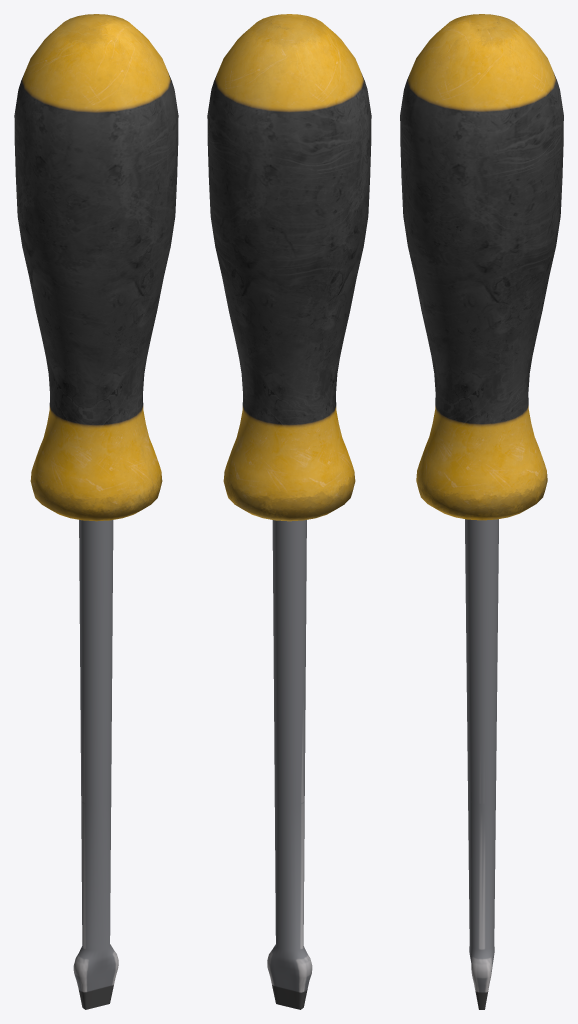
Rendered from screwdriver.glb.
3 renders of one model, left to right at view 1: azimuth 30°, elevation 25°; view 2: azimuth 150°, elevation 25°; view 3: azimuth 270°, elevation 25°, orthographic.
Parts seen in each view (by area): view 1: SM_screendriver_1_head.001_2, SM_screendriver_1.001_3; view 2: SM_screendriver_1_head.001_2, SM_screendriver_1.001_3; view 3: SM_screendriver_1_head.001_2, SM_screendriver_1.001_3.
Part boxes in pixels (box(x1,y1,x2,y2)): SM_screendriver_1_head.001_2: box(14, 14, 178, 521); SM_screendriver_1.001_3: box(73, 520, 118, 1009); SM_screendriver_1_head.001_2: box(207, 14, 371, 521); SM_screendriver_1.001_3: box(267, 520, 312, 1009); SM_screendriver_1_head.001_2: box(400, 14, 563, 520); SM_screendriver_1.001_3: box(465, 519, 498, 1009).
Bounding box in the file's own units: 0.1465 × 0.9715 × 0.1465.
Materials: 1 (1 with a texture image).
